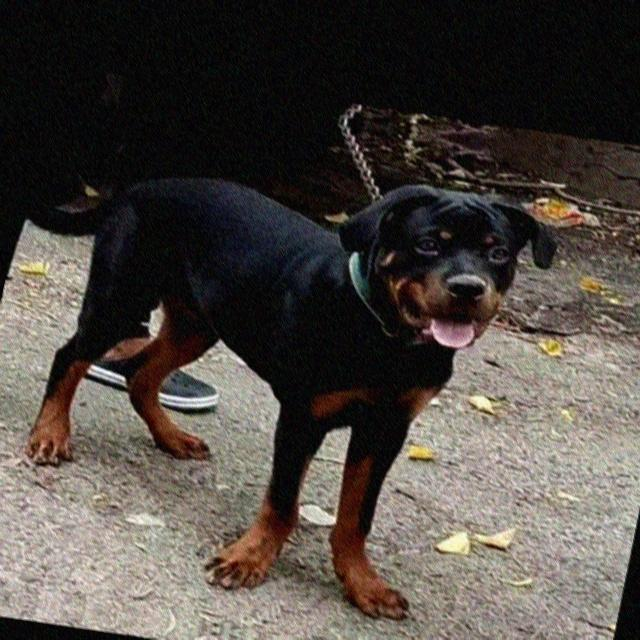dog: (308, 154, 578, 378)
